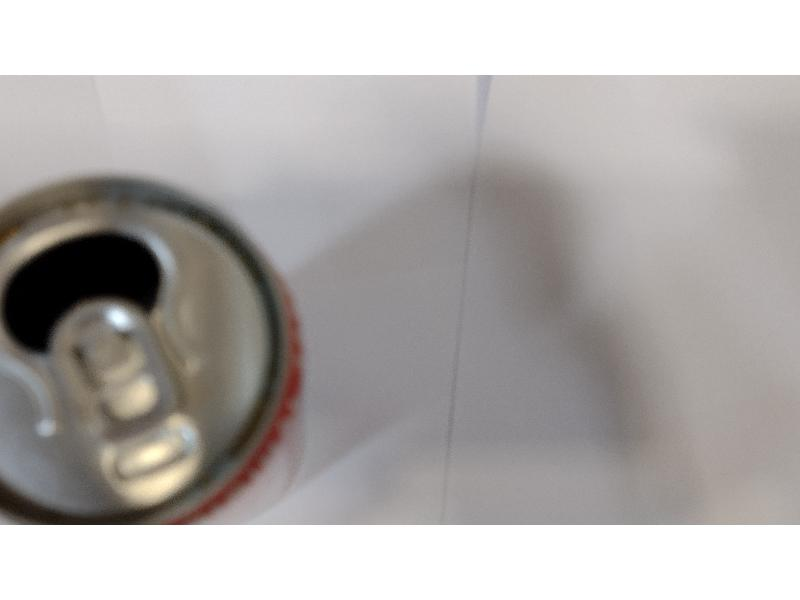can: (1, 164, 326, 520)
